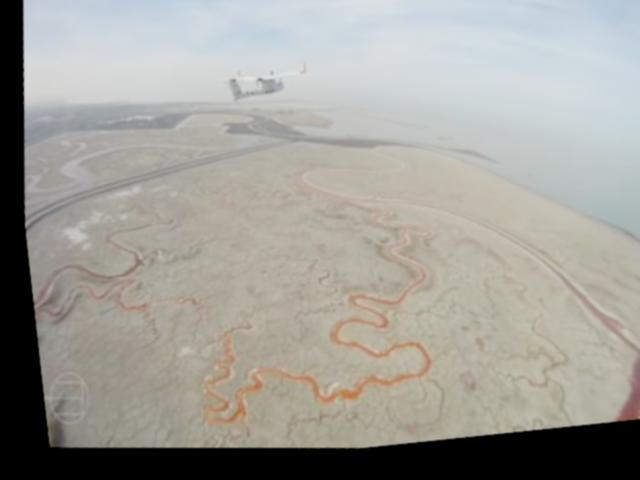uav: (206, 52, 314, 130)
